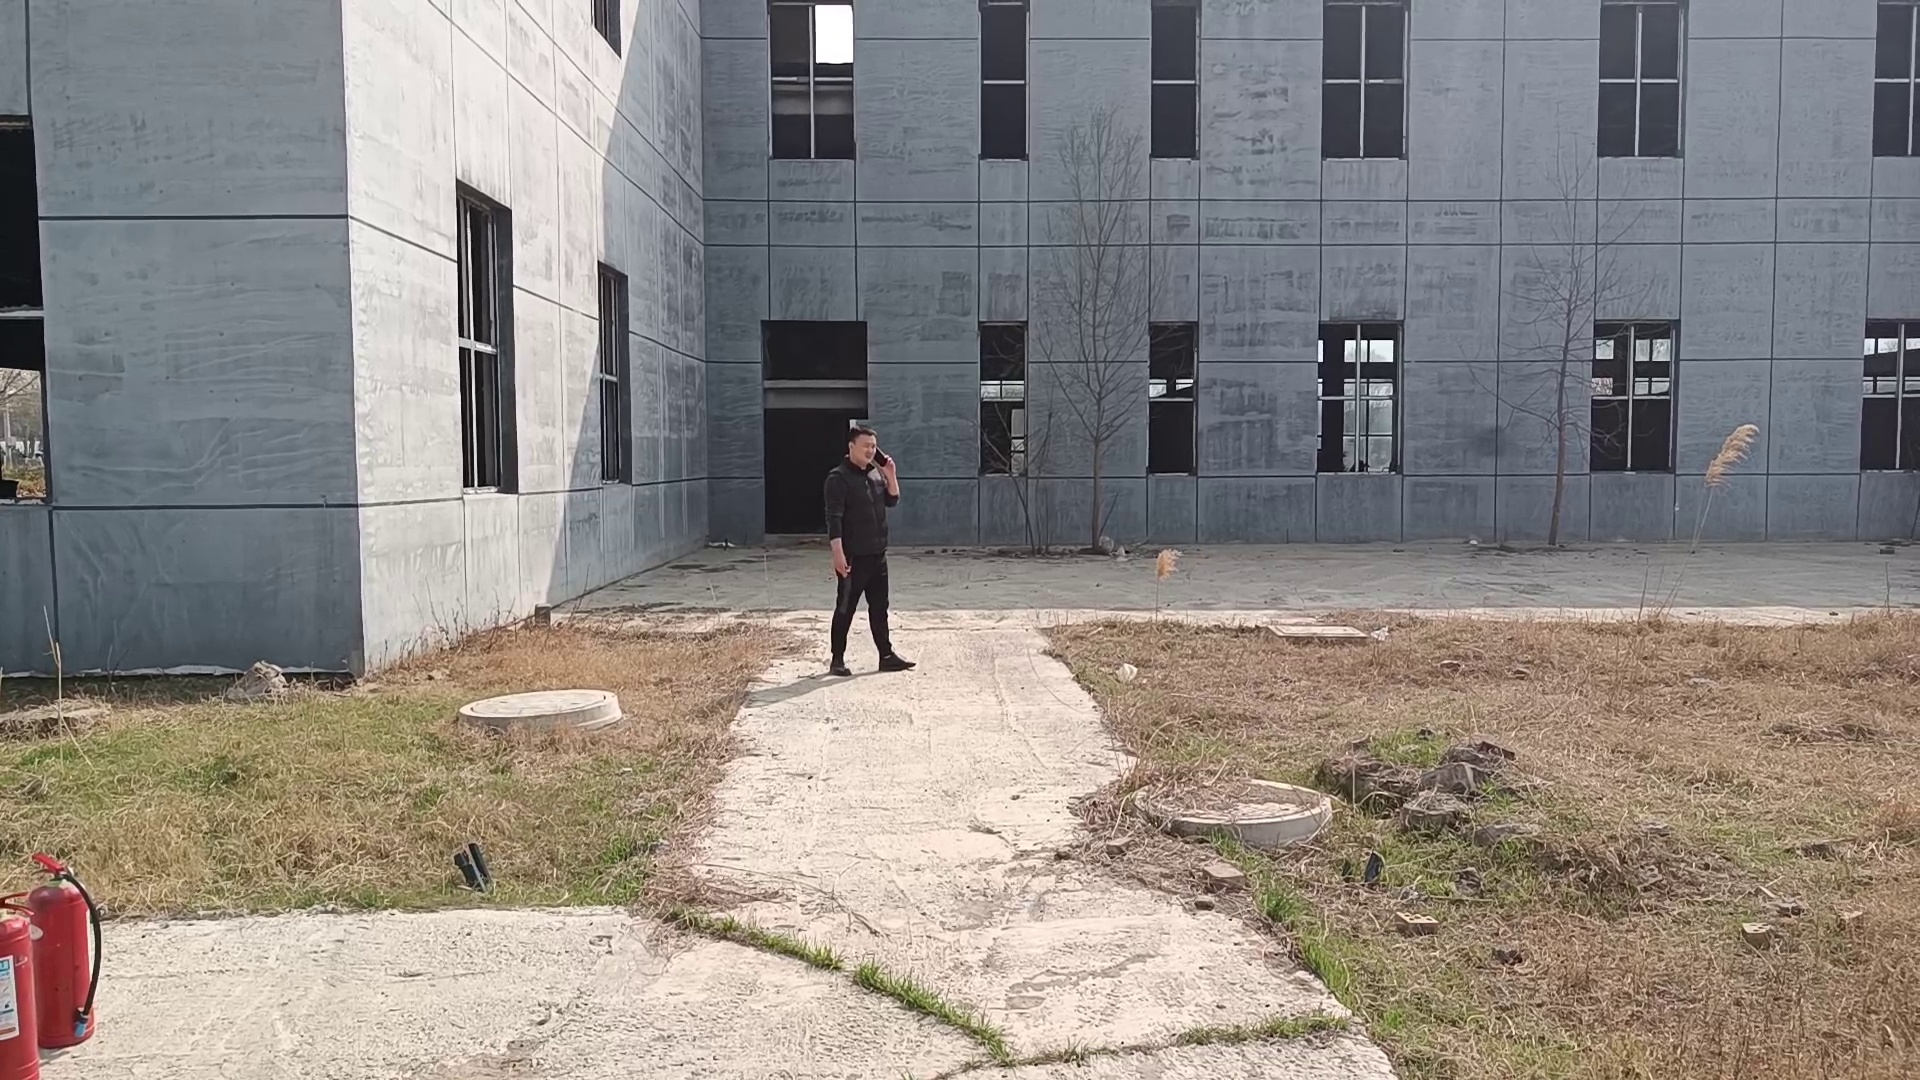phone: (839, 419, 895, 481)
